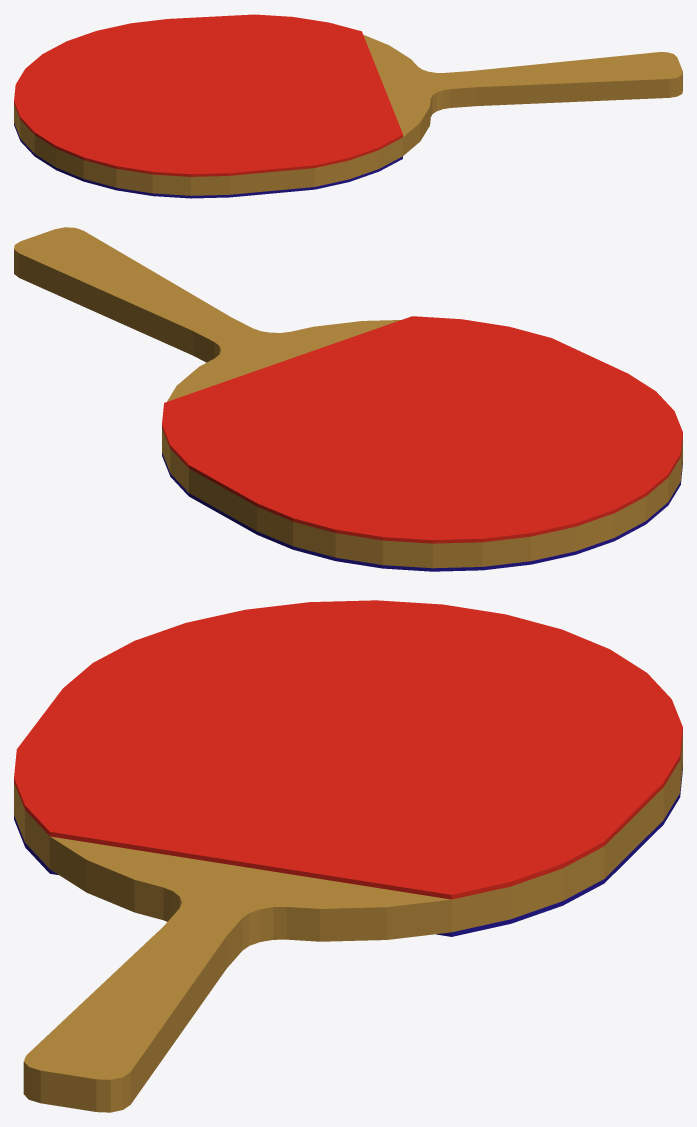
The model's file is paddle.fbx.
3 renders of one model, top to bottom at view 1: azimuth 30°, elevation 25°; view 2: azimuth 150°, elevation 25°; view 3: azimuth 270°, elevation 25°, orthographic. The views are drawn at different scales.
Visible parts, largest first — view 1: Circle; view 2: Circle; view 3: Circle.
Boxes of the visible parts, x1=… form: Circle: x1=14, y1=14, x2=682, y2=198; Circle: x1=14, y1=227, x2=682, y2=571; Circle: x1=14, y1=600, x2=682, y2=1112.
Size of the model in its own units: 95.17 by 3.92 by 56.66.
